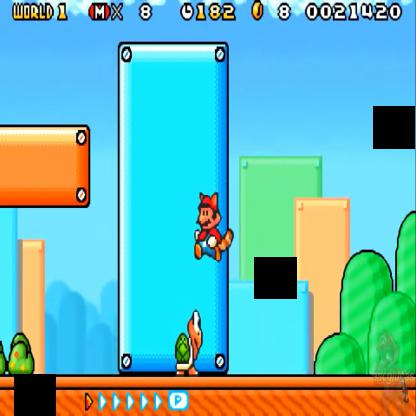Mario: (192, 189, 233, 264)
koopa: (170, 310, 206, 376)
